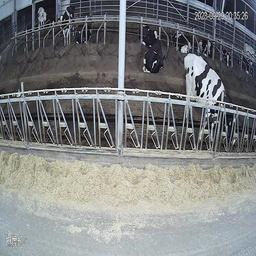cow: (179, 52, 240, 154), (142, 25, 164, 75), (56, 4, 74, 47), (75, 20, 95, 50), (171, 29, 192, 54), (198, 35, 214, 58), (36, 6, 48, 34)
